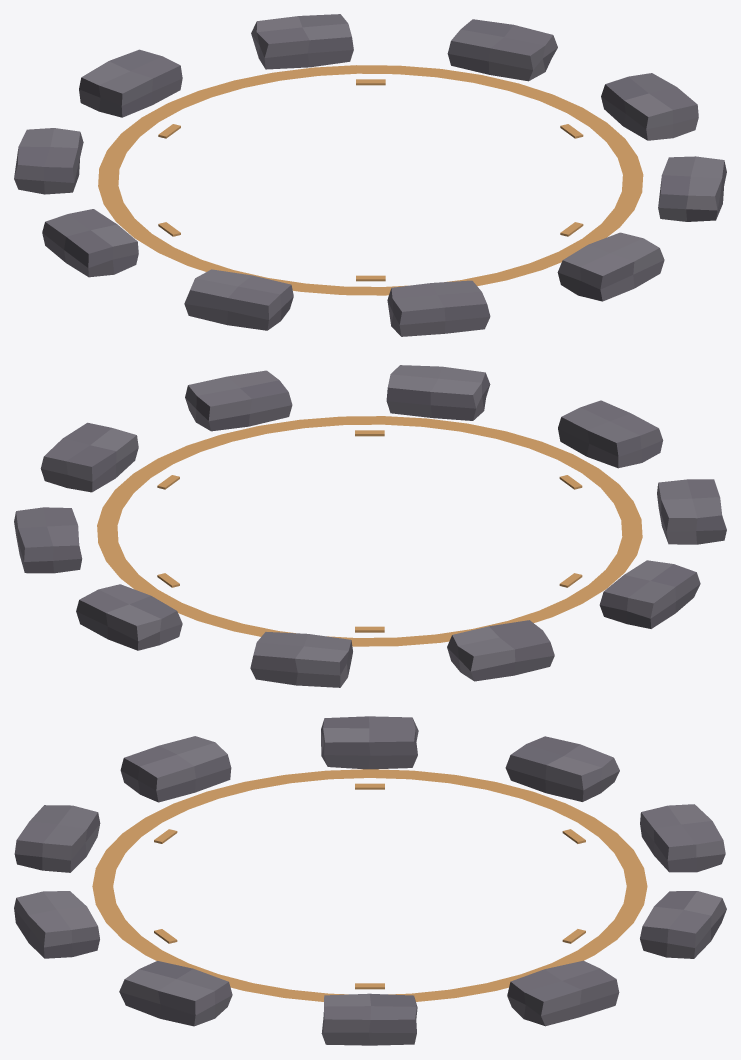
File: Current_Gold.fbx
3 renders of one model, top to bottom at view 1: azimuth 30°, elevation 25°; view 2: azimuth 150°, elevation 25°; view 3: azimuth 270°, elevation 25°, orthographic.
Visible parts, largest first — view 1: Current_Gold; view 2: Current_Gold; view 3: Current_Gold.
Boxes of the visible parts, left/top/right/bottom form: Current_Gold: left=14, top=14, right=726, bottom=336; Current_Gold: left=14, top=365, right=726, bottom=687; Current_Gold: left=14, top=716, right=726, bottom=1045.
Bounding box in the file's own units: 3.81 × 0.166 × 3.78.
